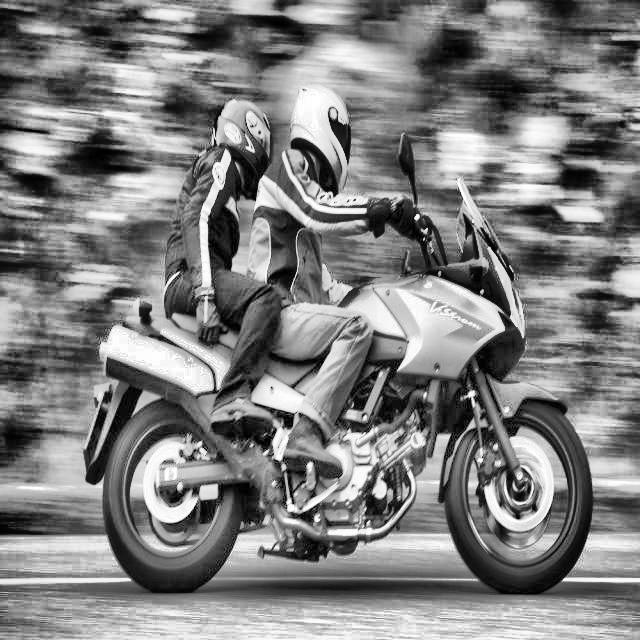Helmet: (288, 80, 352, 197), (210, 94, 274, 204)
